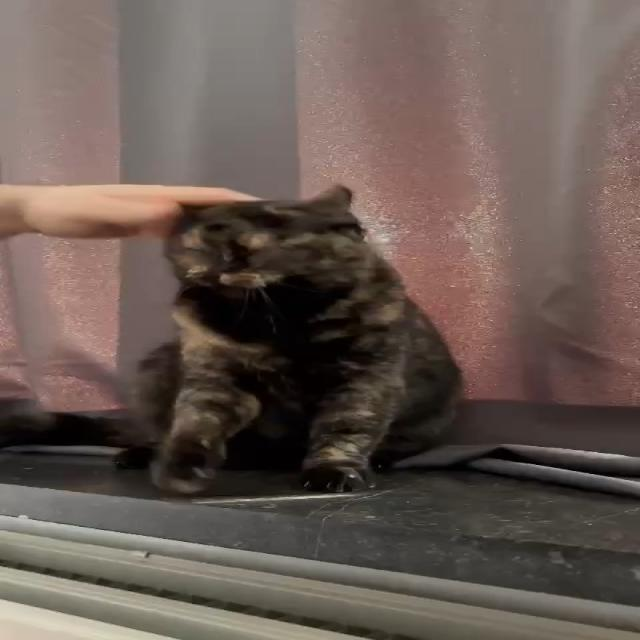authorized: (125, 183, 464, 494)
